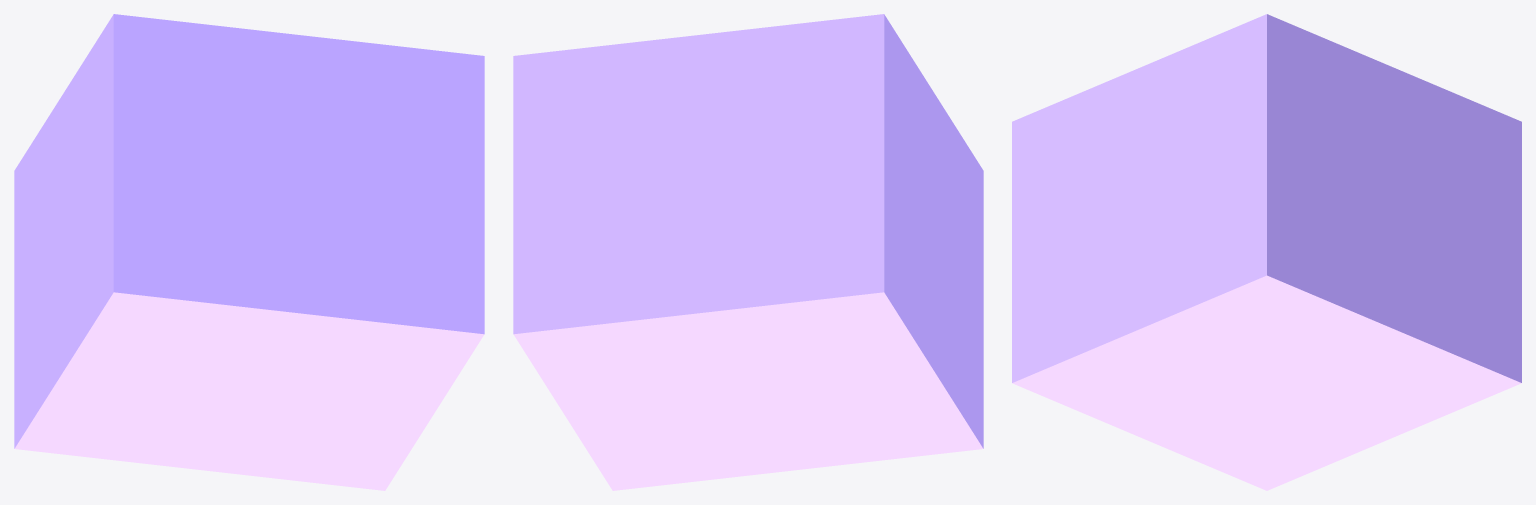
Rendered from polygon-vault.gltf.
3 views of the same model, side by side, from view 1: azimuth 30°, elevation 25°; view 2: azimuth 150°, elevation 25°; view 3: azimuth 270°, elevation 25° (orthographic). The views are drawn at different scales.
Size of the model in its own units: 2.83 by 1.6 by 2.83.
